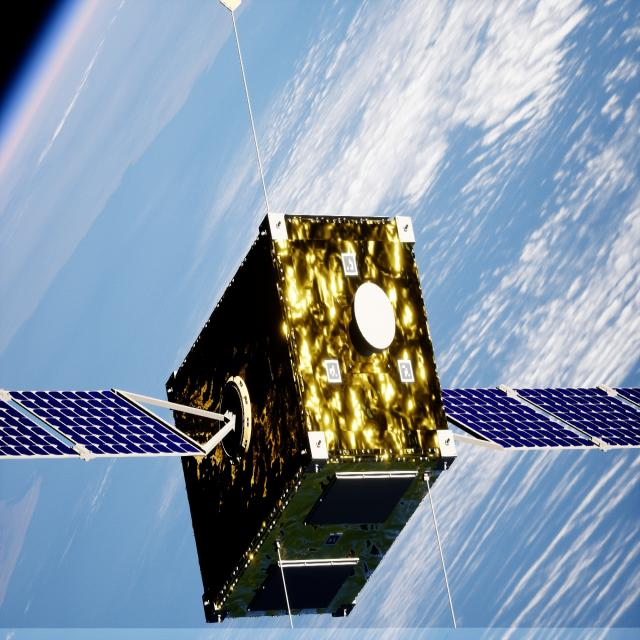medium_debris: (0, 214, 640, 623)
